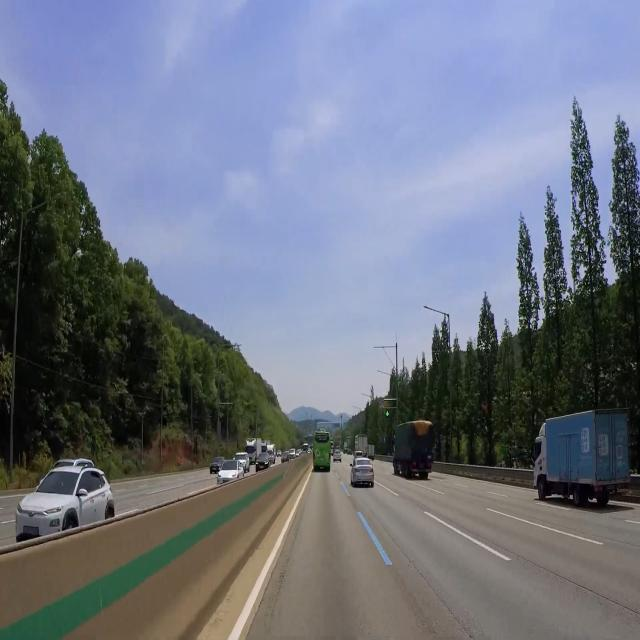car: (21, 519, 43, 539), (607, 483, 620, 495), (359, 469, 370, 477)
